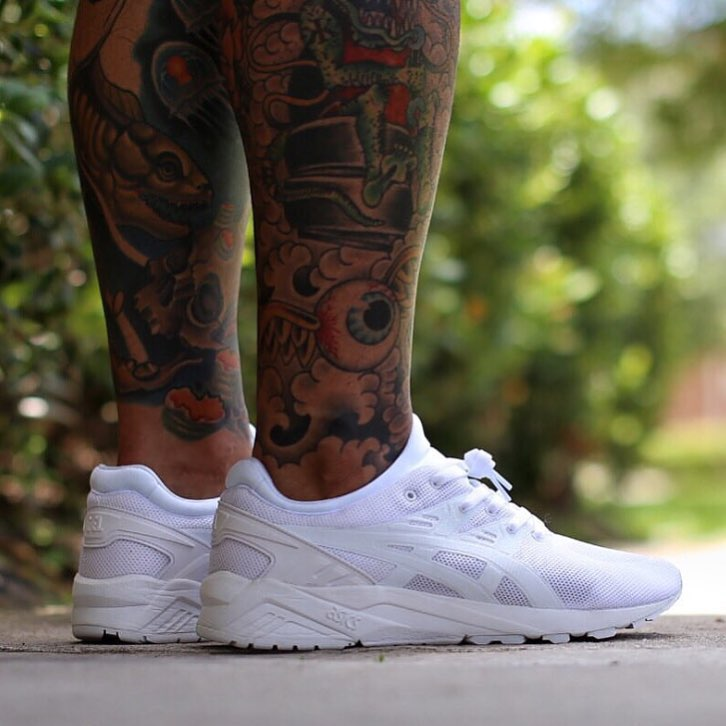sneaker: (175, 404, 695, 665), (46, 429, 280, 662)
